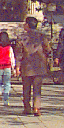person: (13, 15, 52, 115)
